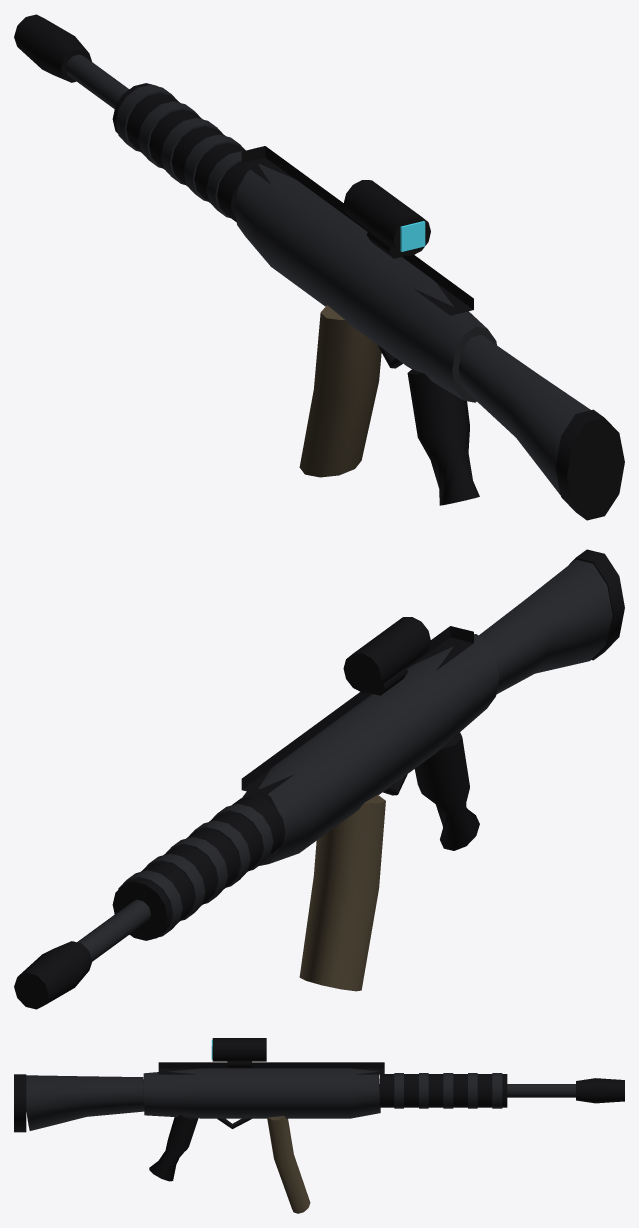
The model's file is rifle.obj.
3 renders of one model, top to bottom at view 1: azimuth 30°, elevation 25°; view 2: azimuth 150°, elevation 25°; view 3: azimuth 270°, elevation 25°, orthographic. The views are drawn at different scales.
Bounding box in the file's own units: 0.0758 × 0.3801 × 1.25.
